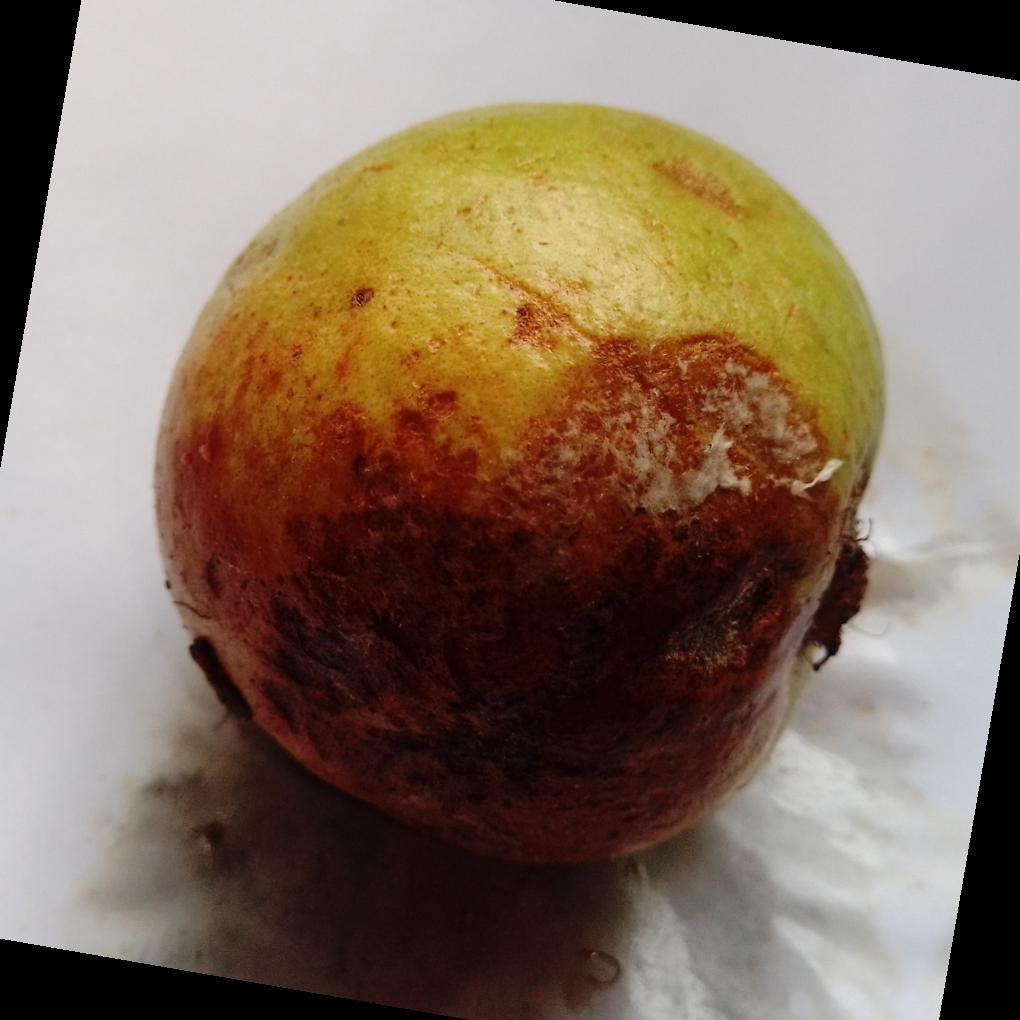FreshOrange: (150, 102, 887, 872)
